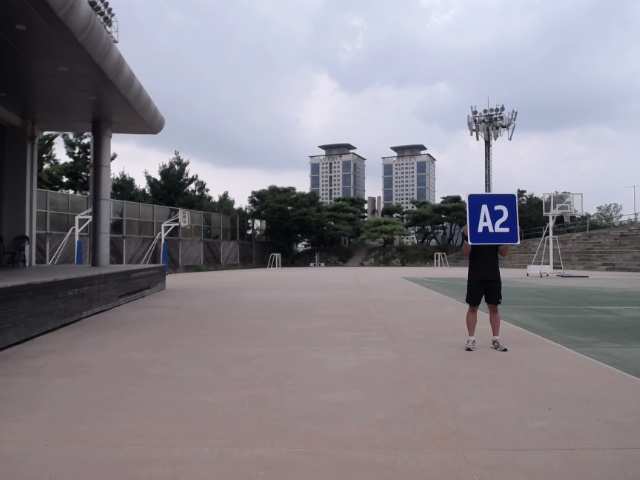delivery_a2: (467, 193, 520, 245)
